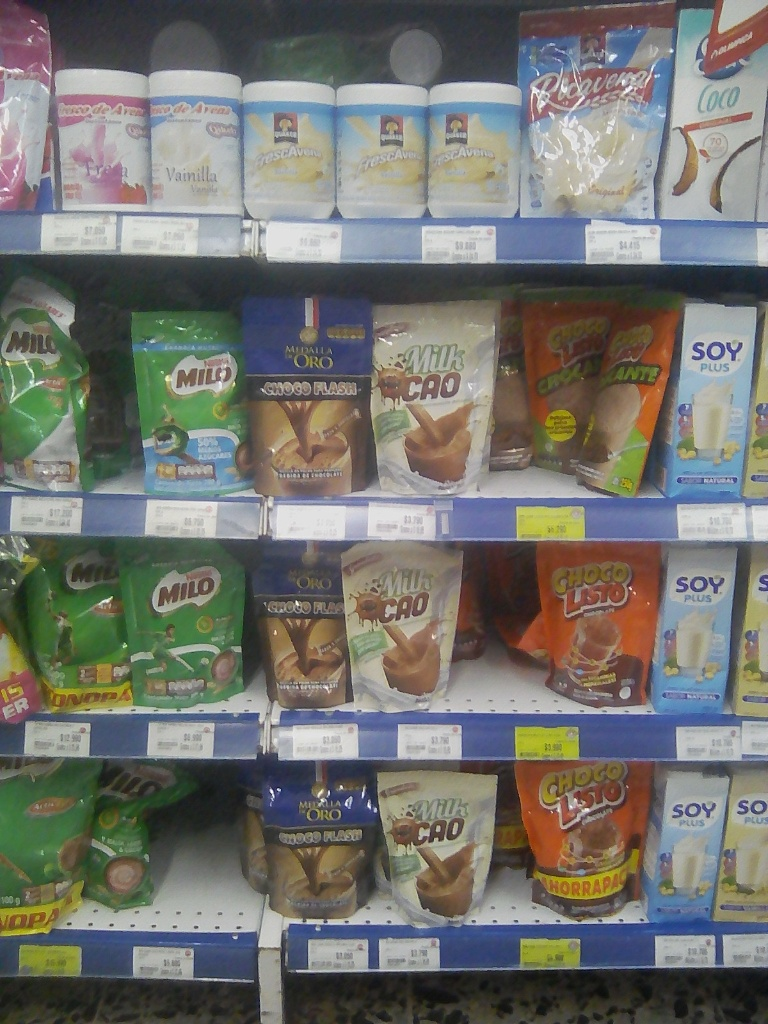COL0170102DYP25000: (506, 286, 578, 492)
COL0170103DYP20000: (523, 541, 661, 717)
COL0170103DYP36000: (511, 761, 652, 920)
COL0170203DYP25000: (125, 537, 252, 710)
COL0170203DYP50000: (8, 532, 122, 712)
COL0170205DYP20000: (132, 311, 244, 489)
COL0170205DYP50000: (1, 263, 101, 496)
